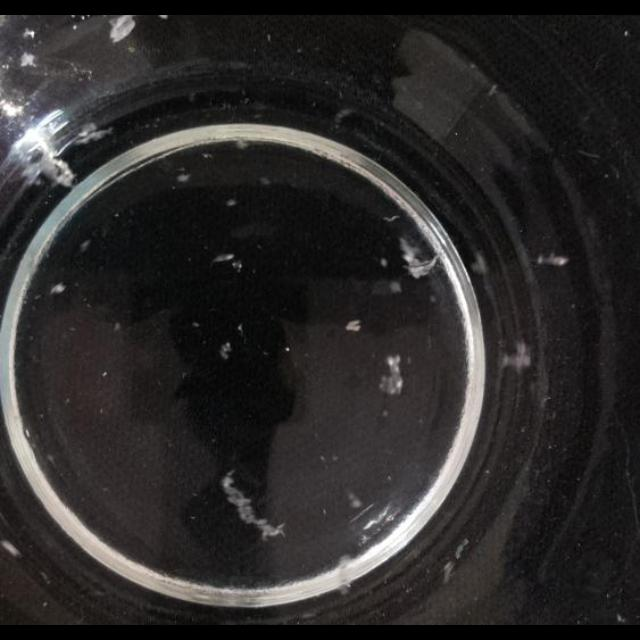Fibre: (220, 472, 286, 540), (398, 235, 438, 278), (378, 354, 406, 396), (109, 16, 138, 44), (537, 252, 571, 268), (2, 540, 22, 558), (212, 252, 235, 264), (19, 52, 36, 68), (344, 320, 362, 332)
microbeads: (72, 122, 114, 148), (501, 342, 534, 372), (333, 554, 357, 588), (468, 253, 488, 275), (441, 560, 455, 586), (347, 492, 363, 511), (220, 341, 232, 359), (50, 282, 66, 294), (389, 282, 403, 294), (230, 260, 242, 272), (80, 240, 92, 252), (176, 172, 190, 182), (23, 28, 34, 40), (259, 177, 271, 186), (616, 613, 626, 623), (226, 198, 238, 206), (202, 152, 214, 160), (113, 321, 121, 331), (380, 258, 388, 268), (382, 409, 390, 418), (192, 320, 200, 328), (64, 396, 72, 404), (319, 456, 326, 464), (238, 323, 244, 332), (102, 370, 108, 378), (266, 34, 272, 42), (284, 346, 290, 352)
